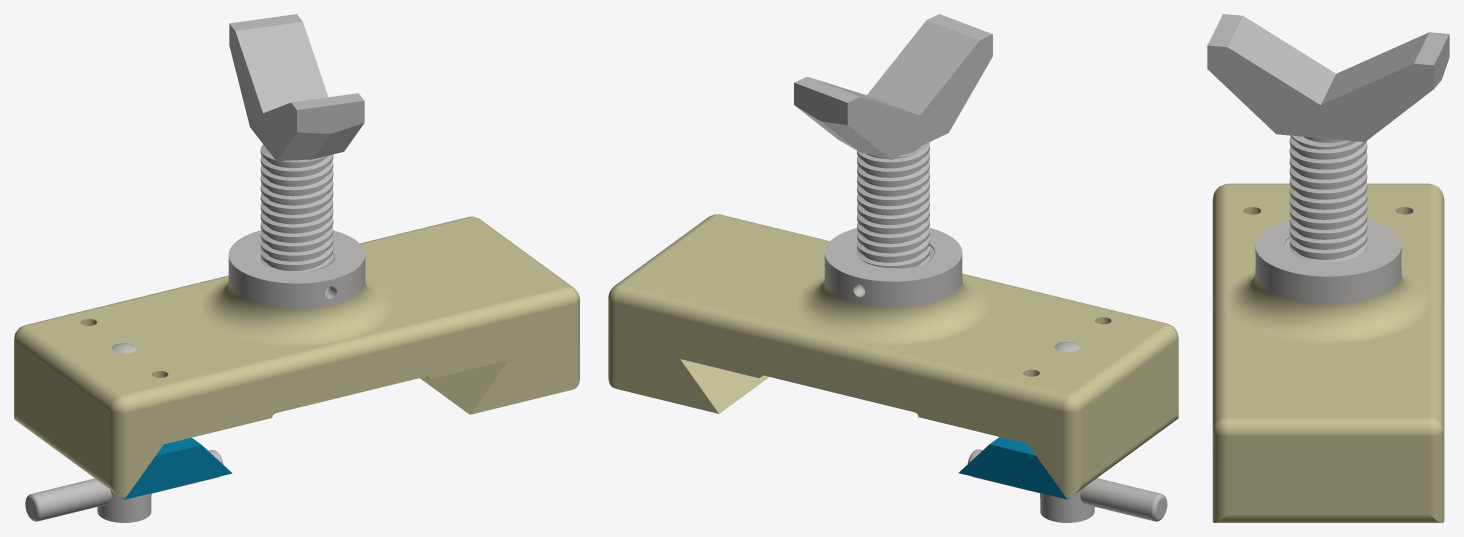
Rendered from Sandaran_Pusat.glb.
The picture shows the model from 3 angles, left to right: view 1: azimuth 30°, elevation 25°; view 2: azimuth 150°, elevation 25°; view 3: azimuth 270°, elevation 25°; orthographic projection. The views are drawn at different scales.
Parts seen in each view (by area): view 1: Solid1 (×6); view 2: Solid1 (×6); view 3: Solid1 (×3).
Boxes of the visible parts, x1=… form: Solid1 (×6): x1=14, y1=14, x2=579, y2=522; Solid1 (×6): x1=608, y1=14, x2=1178, y2=522; Solid1 (×3): x1=1207, y1=14, x2=1449, y2=522.
Size of the model in its own units: 0.203 by 0.158 by 0.0795.
